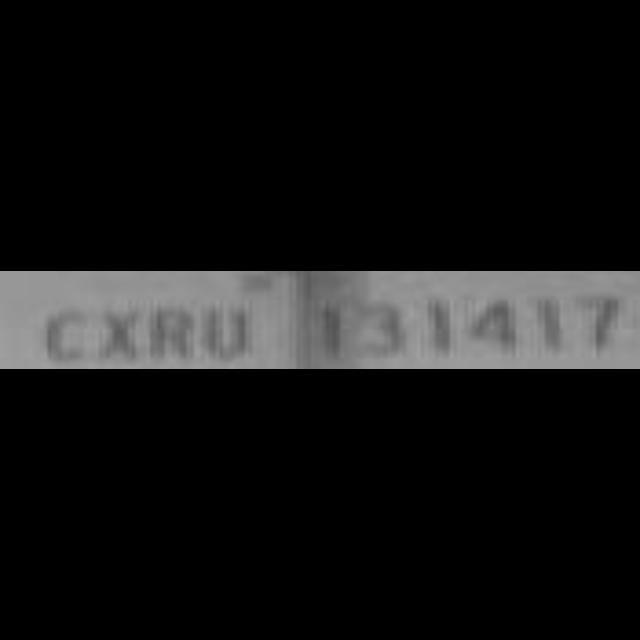1: (529, 288, 571, 364), (416, 291, 458, 359), (313, 300, 349, 360)
3: (356, 293, 408, 362)
4: (466, 290, 522, 358)
7: (575, 286, 631, 366)
c: (40, 304, 90, 364)
r: (147, 298, 196, 368)
u: (198, 294, 255, 364)
x: (97, 302, 145, 368)
